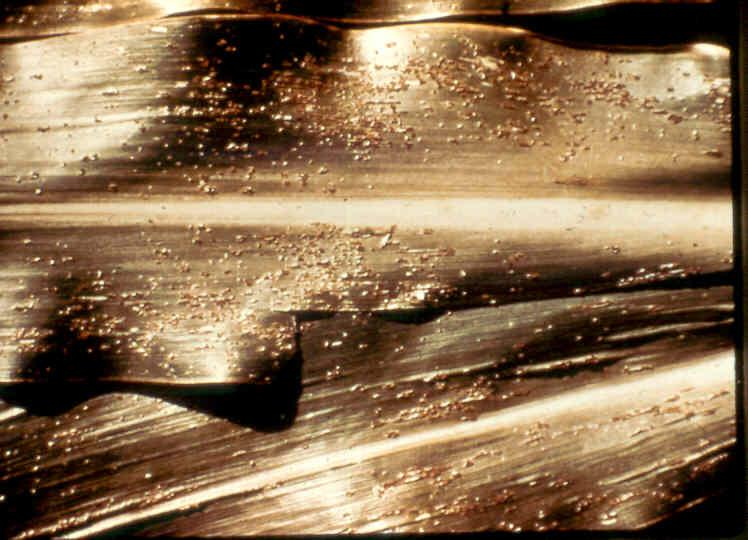Corn rust leaf: (1, 15, 738, 409), (179, 304, 744, 540)
